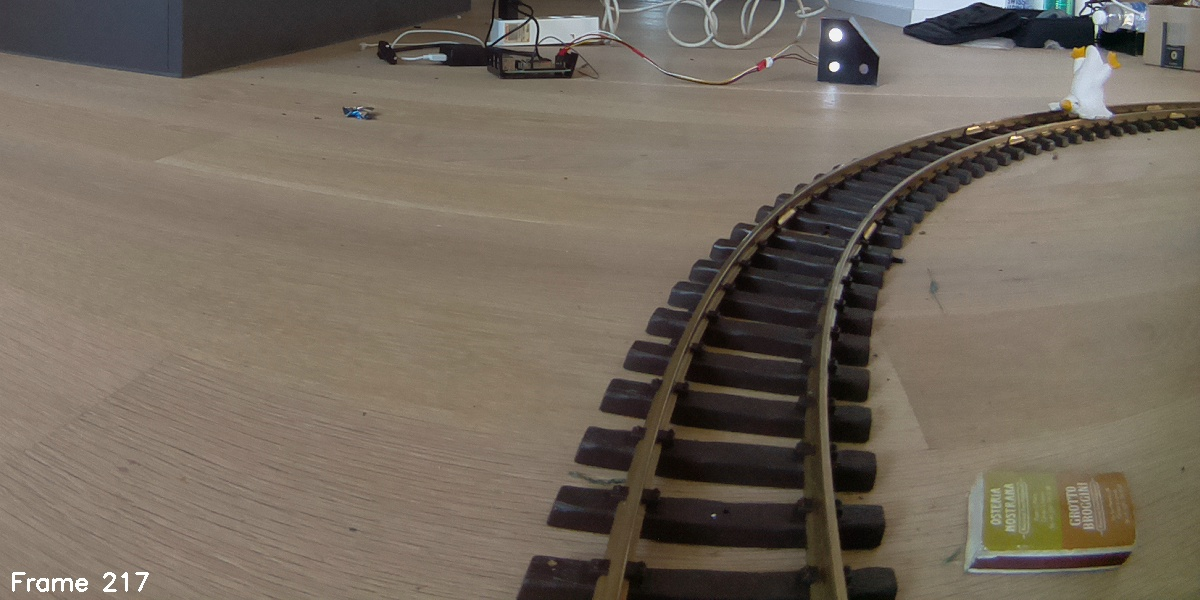Ente: (1051, 45, 1119, 126)
Fahrt: (819, 15, 880, 89)
